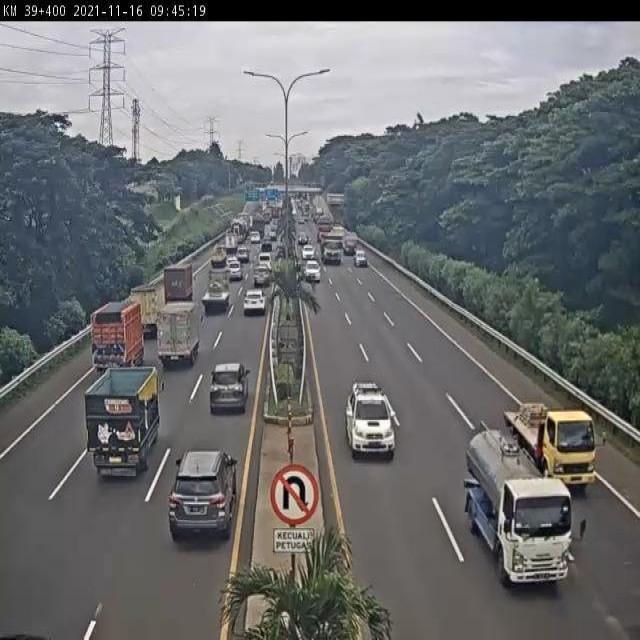car: (170, 449, 238, 539), (344, 381, 397, 460), (207, 364, 249, 417), (244, 291, 266, 317), (304, 256, 321, 283), (234, 245, 253, 268), (225, 259, 242, 280), (253, 269, 268, 288)
small bus: (257, 253, 276, 275)
small truck: (463, 429, 571, 584), (505, 396, 594, 484), (157, 303, 199, 369), (129, 286, 165, 334), (208, 246, 228, 270)
truck-m-: (84, 367, 158, 476), (91, 301, 142, 376), (161, 263, 192, 309), (202, 272, 231, 320)
